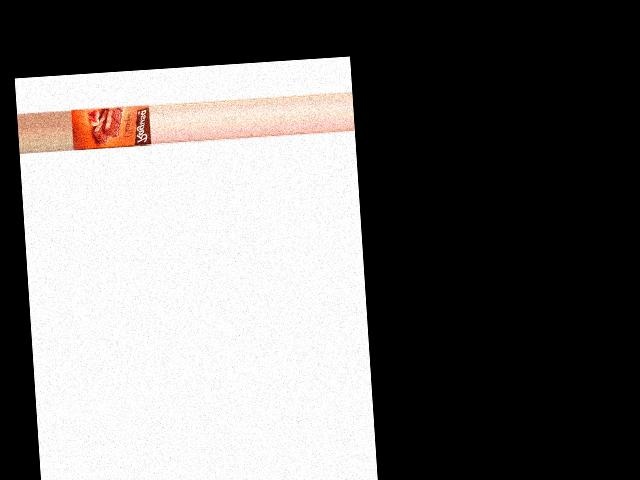chocolate: (69, 100, 150, 152)
